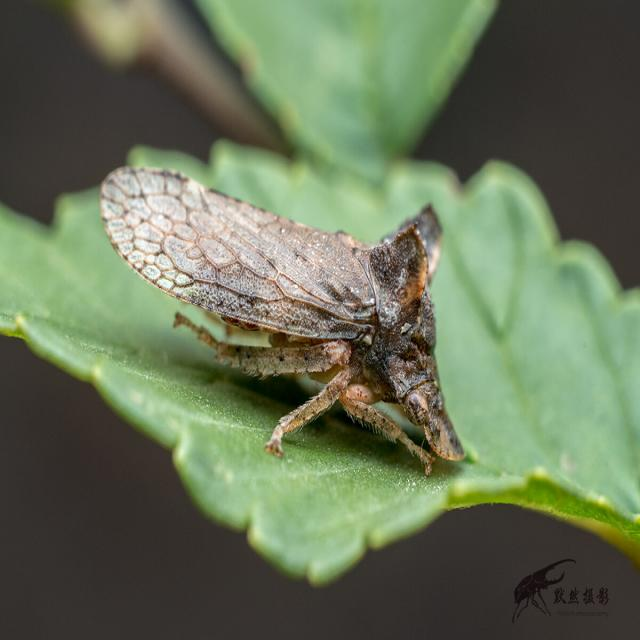Yechan: (98, 151, 473, 472)
